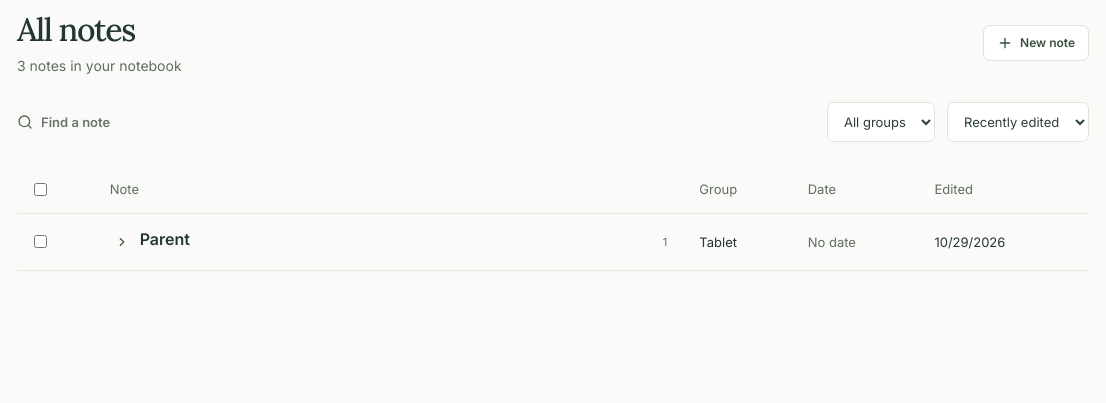
Test case: folds children by default and opens each nested level without losing search results
The width and height of the screenshot is (1106, 403).
Expected: the text "Child" is not shown
Click the button named "Expand Parent". click: click(122, 242)
box: [110, 230, 134, 254]
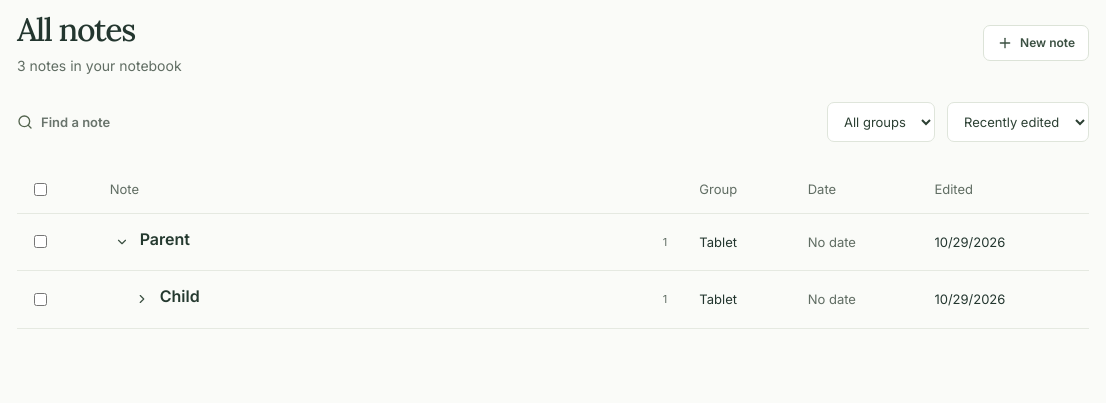
Expected: the text "Grandchild" is not shown
Expected: the text "Child" is shown, [160, 285, 200, 308]
Click the button named "Expand Child". click: click(142, 299)
box: [130, 287, 154, 311]
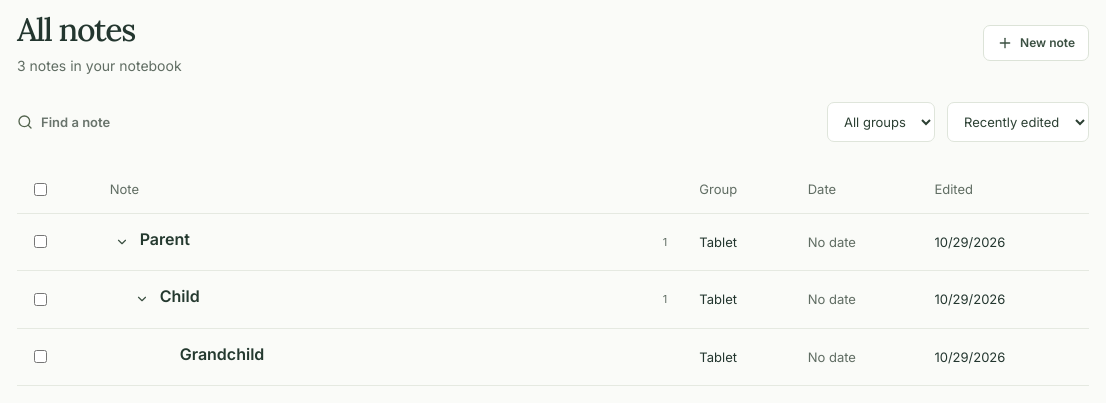
Expected: the text "Grandchild" is shown, [180, 343, 264, 365]
Click the button named "Collapse Parent". click: click(122, 242)
box: [110, 230, 134, 254]
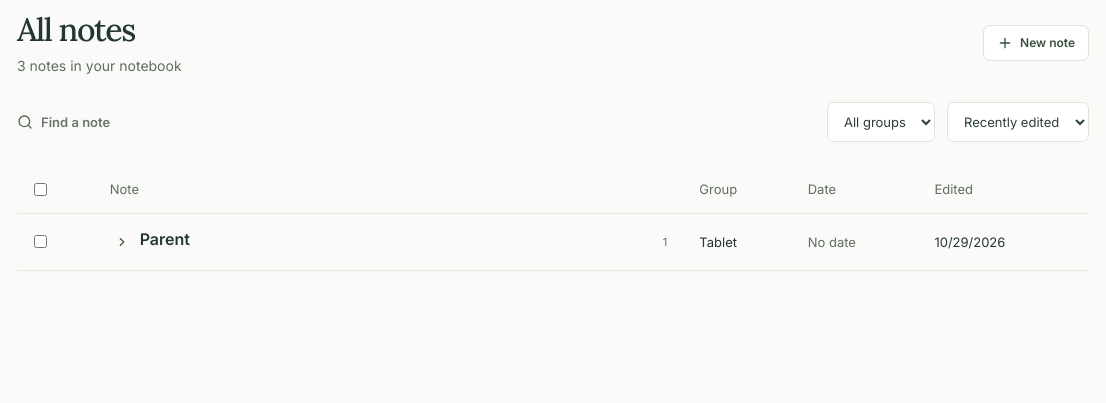
Type "Grandchild" into the field labelled "Find a note". click: (142, 122)
box: [41, 104, 243, 140]
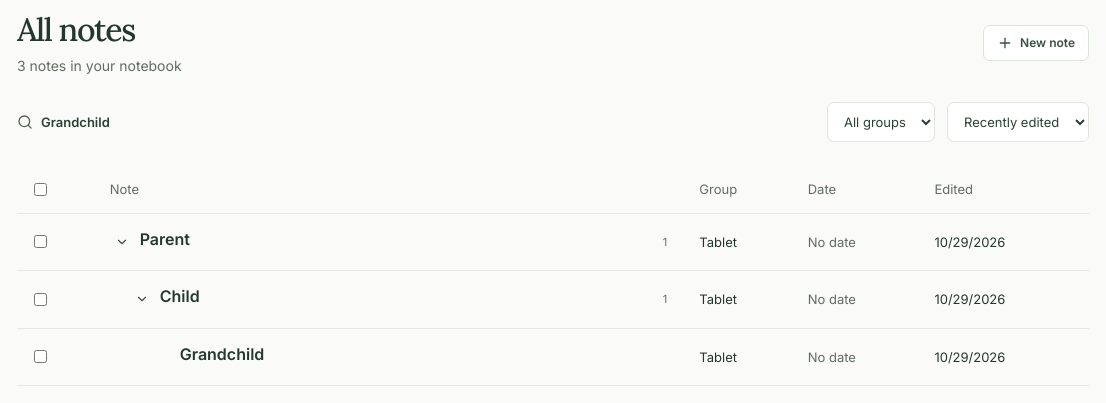
Expected: the text "Parent" is shown, [140, 228, 190, 250]
Expected: the text "Grandchild" is shown, [180, 343, 264, 365]
